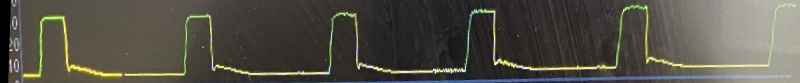normal_pressure: (32, 4, 769, 83)
